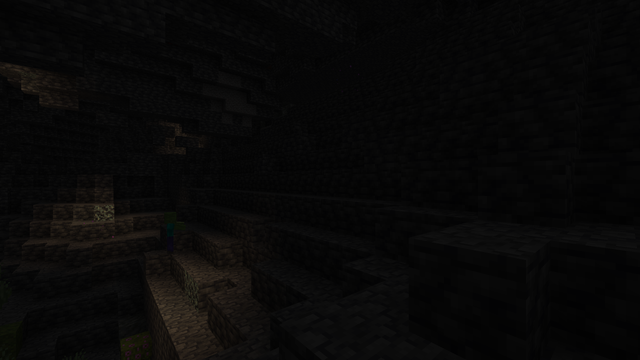zombies: (162, 212, 178, 255)
